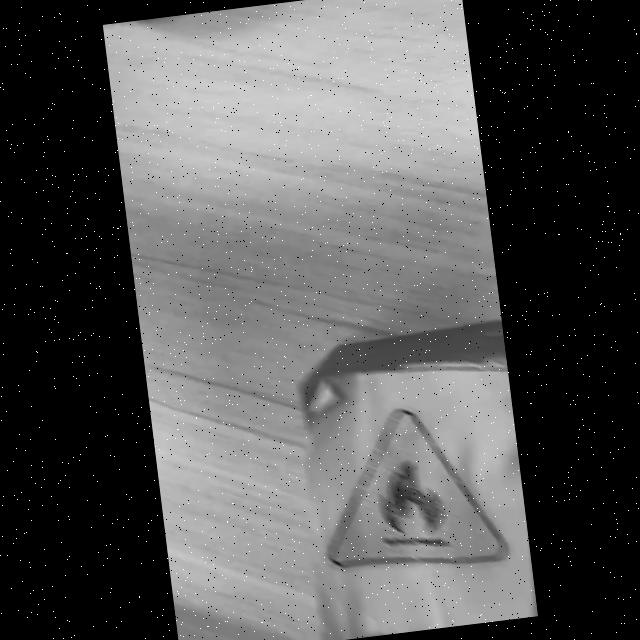Fire: (327, 406, 505, 568)
